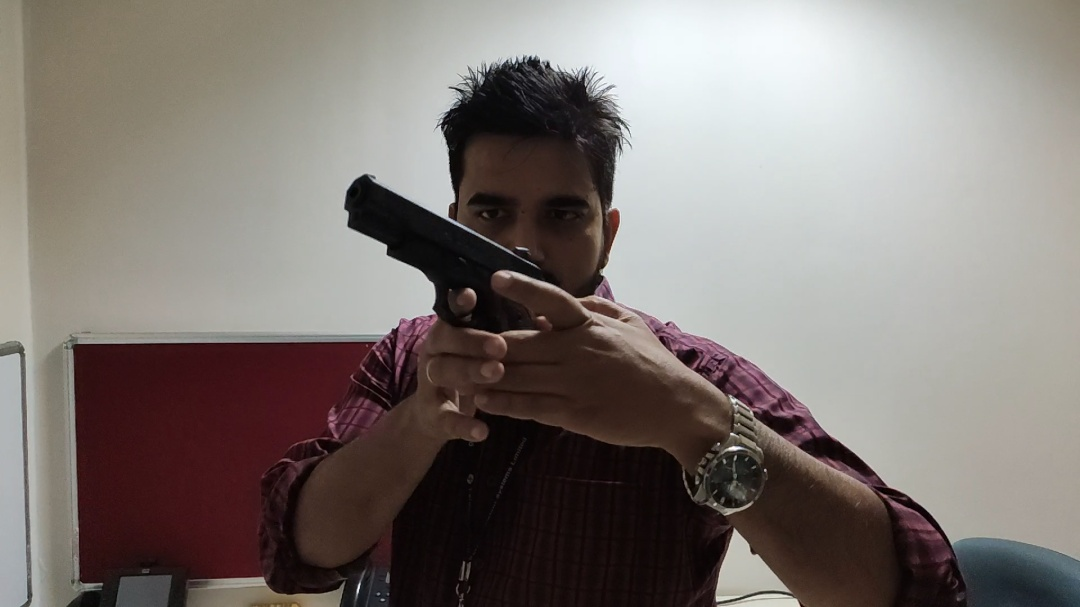gun: (341, 173, 606, 394)
